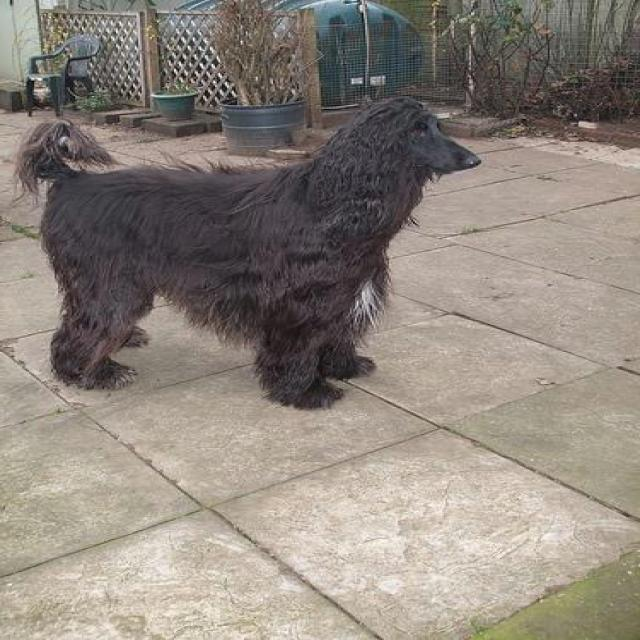afghan_hound: (8, 98, 484, 410)
